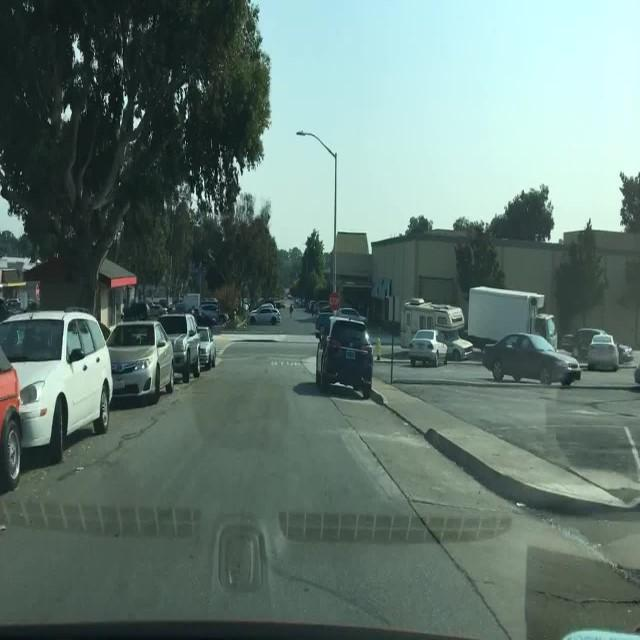normal: (0, 305, 129, 467), (467, 322, 594, 392), (300, 305, 377, 413), (150, 297, 207, 399), (392, 316, 456, 369), (240, 294, 286, 330)
